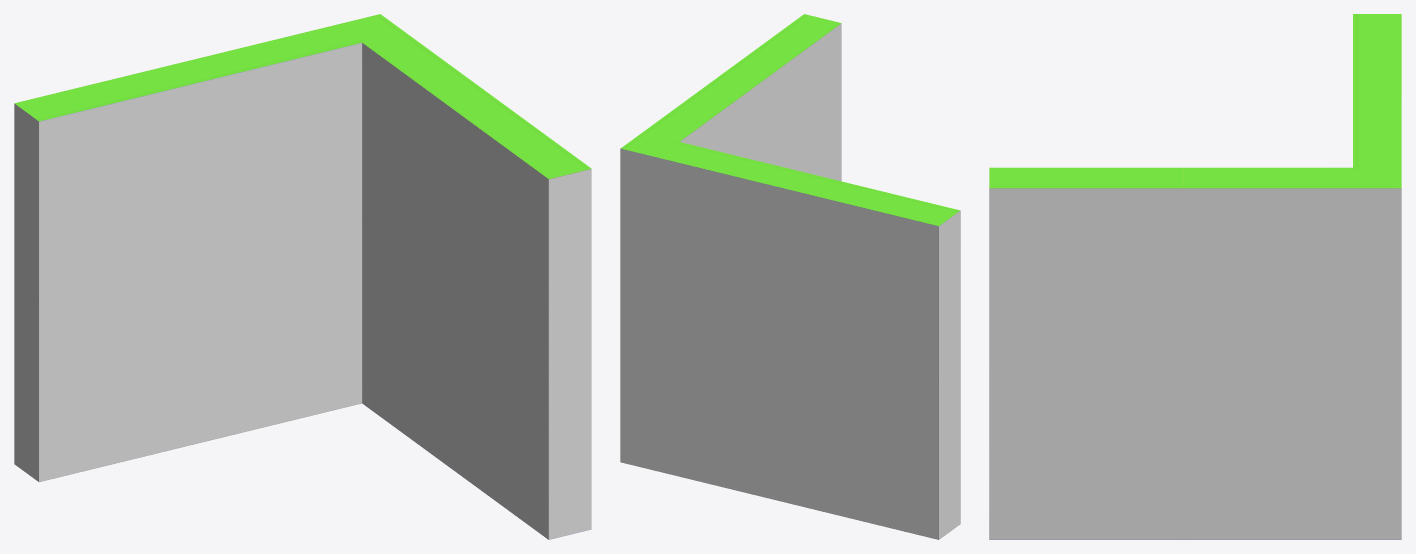
Rendered from MK_MK_Wall_Corner_Out_A.fbx.
3 renders of one model, left to right at view 1: azimuth 30°, elevation 25°; view 2: azimuth 150°, elevation 25°; view 3: azimuth 270°, elevation 25°, orthographic. The views are drawn at different scales.
Parts seen in each view (by area): view 1: MK_Wall_Corner_Out_A; view 2: MK_Wall_Corner_Out_A; view 3: MK_Wall_Corner_Out_A.
Boxes of the visible parts, bbox=[...] form: MK_Wall_Corner_Out_A: bbox=[14, 14, 591, 539]; MK_Wall_Corner_Out_A: bbox=[620, 14, 960, 539]; MK_Wall_Corner_Out_A: bbox=[989, 14, 1401, 539].
Size of the model in its own units: 191 by 180 by 191.
Materials: 1 (1 with a texture image).
